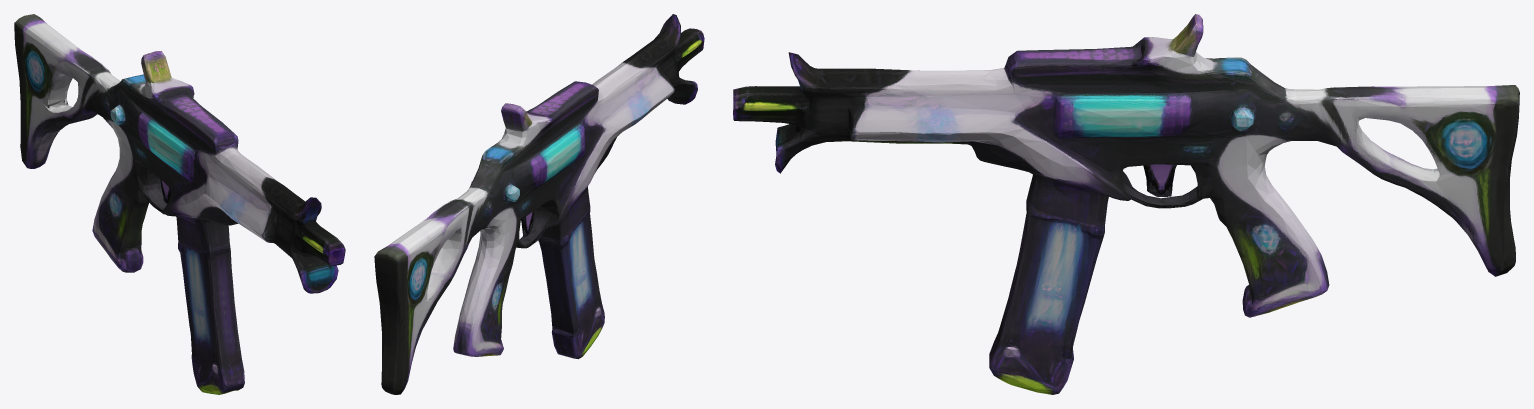
File: tsuki_carbine_skin_220.fbx
3 renders of one model, left to right at view 1: azimuth 30°, elevation 25°; view 2: azimuth 150°, elevation 25°; view 3: azimuth 270°, elevation 25°, orthographic. The views are drawn at different scales.
Parts seen in each view (by area): view 1: geometry_0; view 2: geometry_0; view 3: geometry_0.
Part boxes in pixels (box(x1,y1,x2,y2)): geometry_0: box(14, 14, 345, 394); geometry_0: box(374, 14, 704, 394); geometry_0: box(733, 14, 1519, 394).
Size of the model in its own units: 0.1027 by 0.5204 by 1.
1 material, 1 textured.
